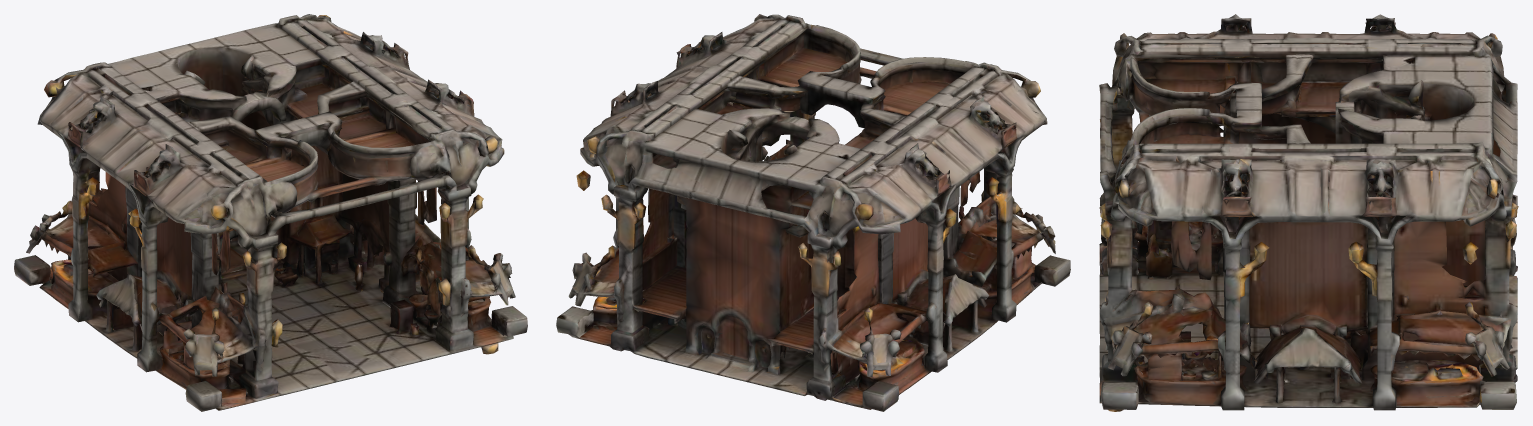
File: Dwarven Market #2_final.glb
3 renders of one model, left to right at view 1: azimuth 30°, elevation 25°; view 2: azimuth 150°, elevation 25°; view 3: azimuth 270°, elevation 25°, orthographic. The views are drawn at different scales.
Bounding box in the file's own units: 1.91 × 1.26 × 1.92.
1 material, 1 textured.
